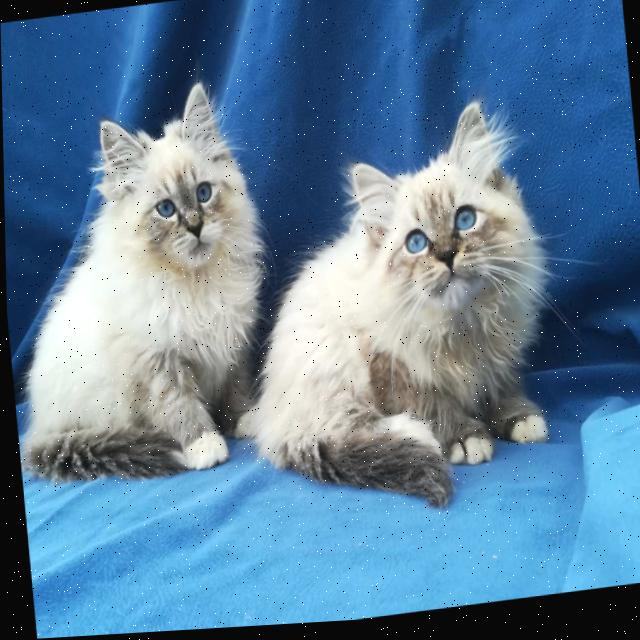Neva Masquerade: (225, 91, 566, 531), (1, 70, 285, 501)
